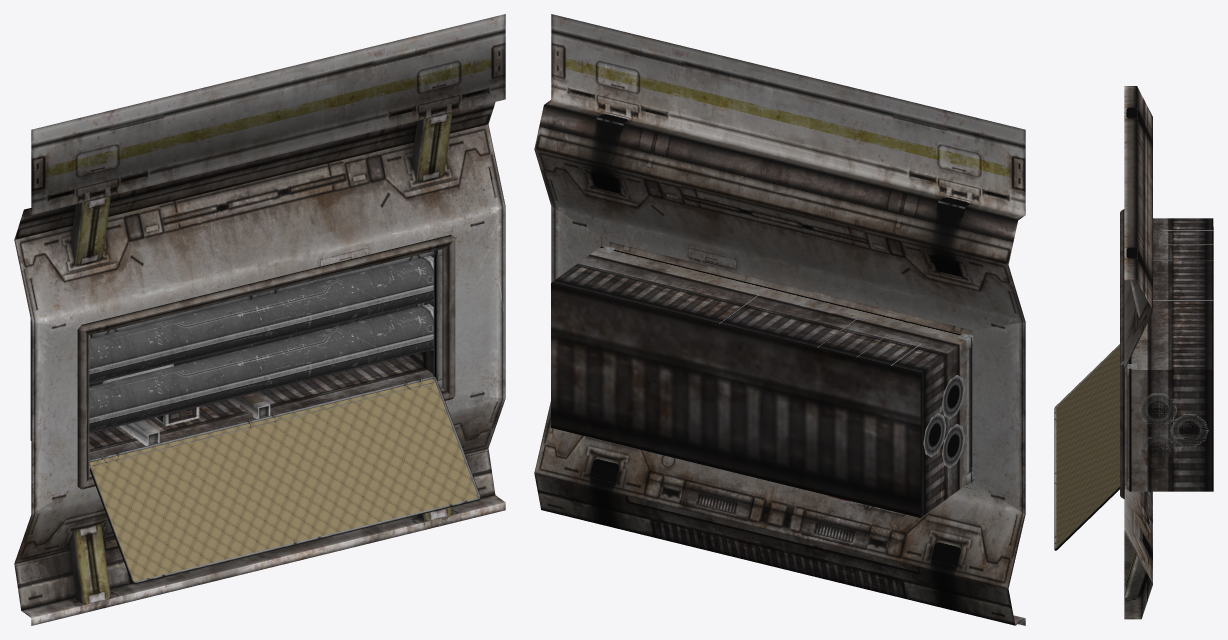
File: theta_ground_details01_open.dae
3 views of the same model, side by side, from view 1: azimuth 30°, elevation 25°; view 2: azimuth 150°, elevation 25°; view 3: azimuth 270°, elevation 25° (orthographic). The views are drawn at different scales.
Parts seen in each view (by area): view 1: polySurface20, fence, polySurface14, UV_temp_polySurface1, polySurface50, Geometry_mesh001Node1; view 2: polySurface20, UV_temp_polySurface1, polySurface14, polySurface50; view 3: UV_temp_polySurface1, polySurface20, fence, polySurface14, polySurface50.
Boxes of the visible parts, x1=… form: polySurface20: x1=14, y1=14, x2=505, y2=625; fence: x1=90, y1=378, x2=478, y2=581; polySurface14: x1=89, y1=255, x2=433, y2=433; UV_temp_polySurface1: x1=30, y1=255, x2=433, y2=473; polySurface50: x1=89, y1=249, x2=480, y2=583; Geometry_mesh001Node1: x1=90, y1=337, x2=270, y2=445; polySurface20: x1=534, y1=14, x2=1025, y2=625; UV_temp_polySurface1: x1=551, y1=246, x2=966, y2=517; polySurface14: x1=923, y1=375, x2=964, y2=468; polySurface50: x1=600, y1=246, x2=973, y2=484; UV_temp_polySurface1: x1=1129, y1=218, x2=1213, y2=491; polySurface20: x1=1120, y1=86, x2=1152, y2=619; fence: x1=1056, y1=346, x2=1119, y2=547; polySurface14: x1=1139, y1=393, x2=1208, y2=467; polySurface50: x1=1054, y1=344, x2=1136, y2=550.
Bounding box in the file's own units: 4 × 4 × 1.38.
